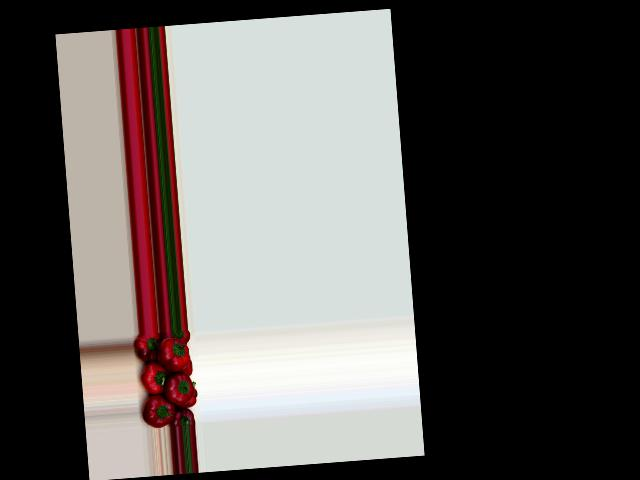bell_pepper: (180, 362, 194, 376)
